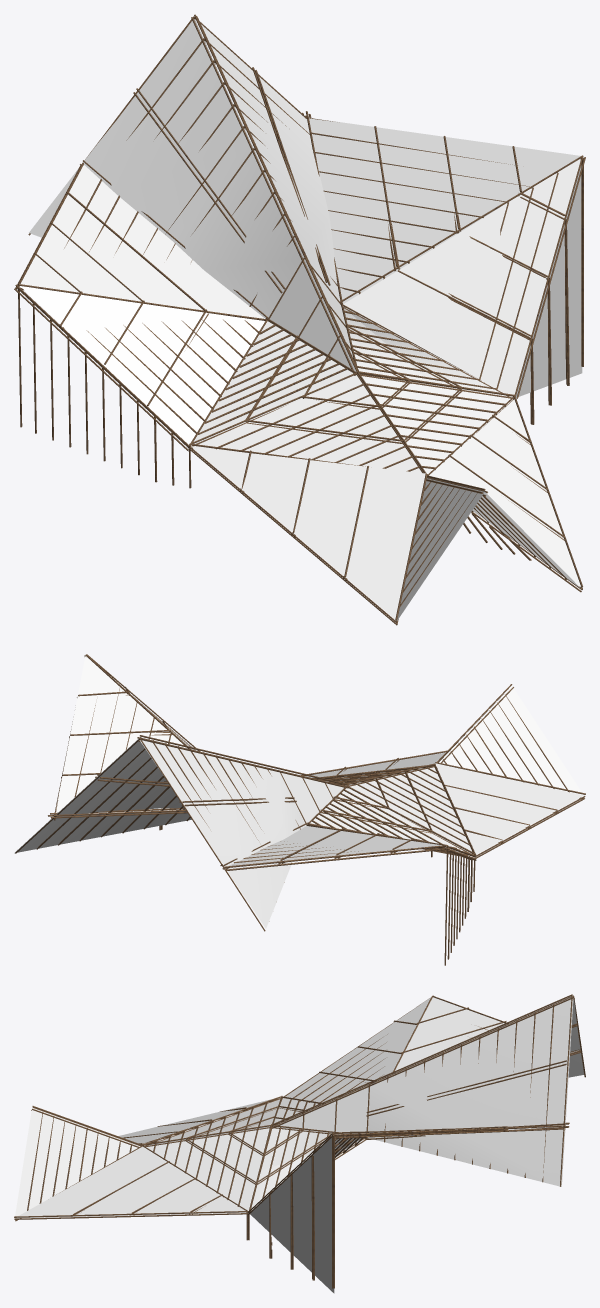
File: teahouse2.glb
3 renders of one model, top to bottom at view 1: azimuth 30°, elevation 25°; view 2: azimuth 150°, elevation 25°; view 3: azimuth 270°, elevation 25°, orthographic. The views are drawn at different scales.
Visible parts, largest first — view 1: structure; view 2: structure; view 3: structure.
Boxes of the visible parts, x1=… form: structure: x1=14, y1=14, x2=585, y2=625; structure: x1=14, y1=654, x2=585, y2=965; structure: x1=14, y1=994, x2=585, y2=1293.
Bounding box in the file's own units: 28.68 × 16.56 × 38.25.
2 materials, 2 textured.
